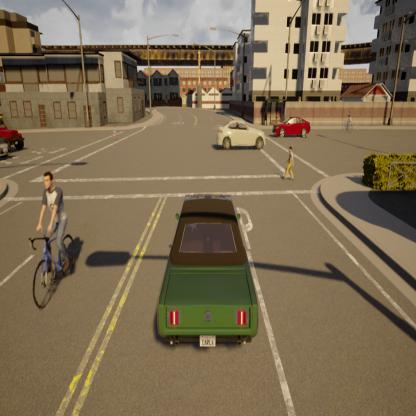Cars: (150, 177, 268, 359), (213, 116, 270, 156), (0, 113, 33, 156), (272, 109, 314, 142)
Pedestrian: (278, 141, 300, 186)
